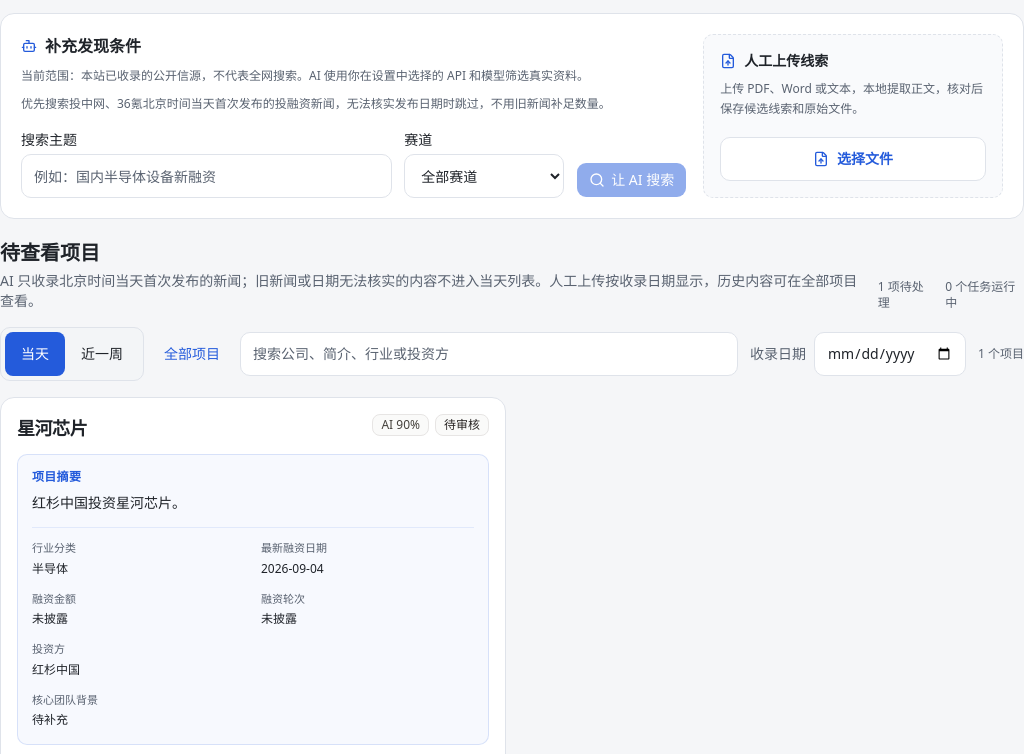
Test case: DiscoveryWorkbench › creates a search and promotes a candidate through explicit human confirmation
Type "国内头部机构 半导体 新投资" into the field labelled "搜索主题" at {"x": 207, "y": 176}, box [21,154,392,198]
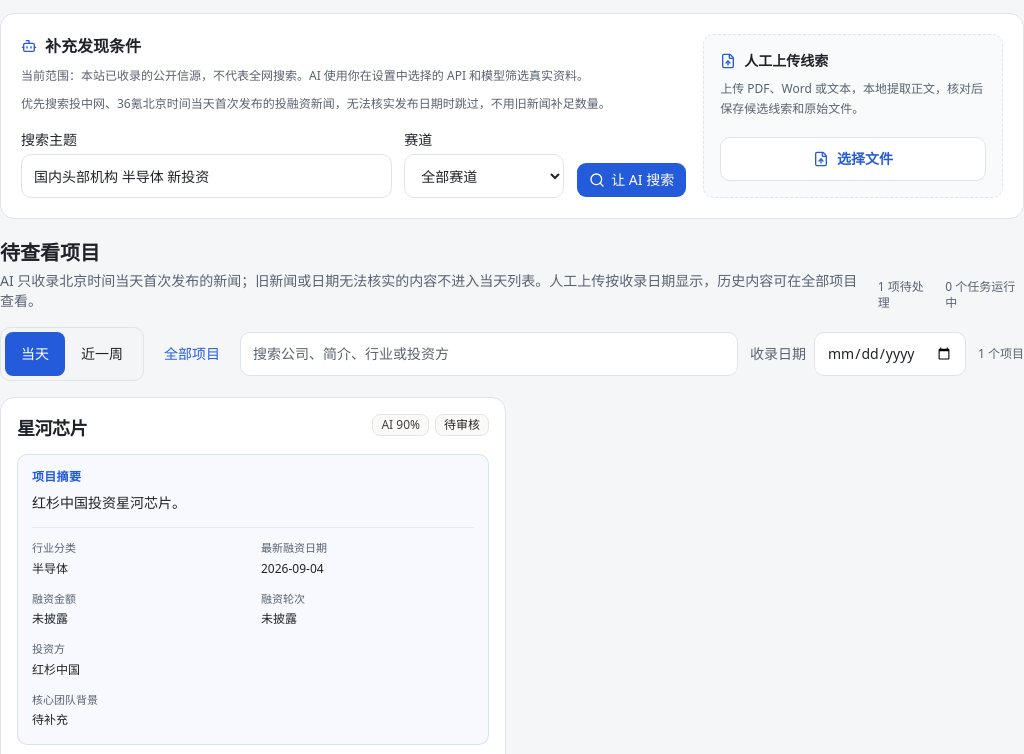
Click the button "让 AI 搜索" at {"x": 632, "y": 180}, box [576,162,687,198]
(page scrolled)
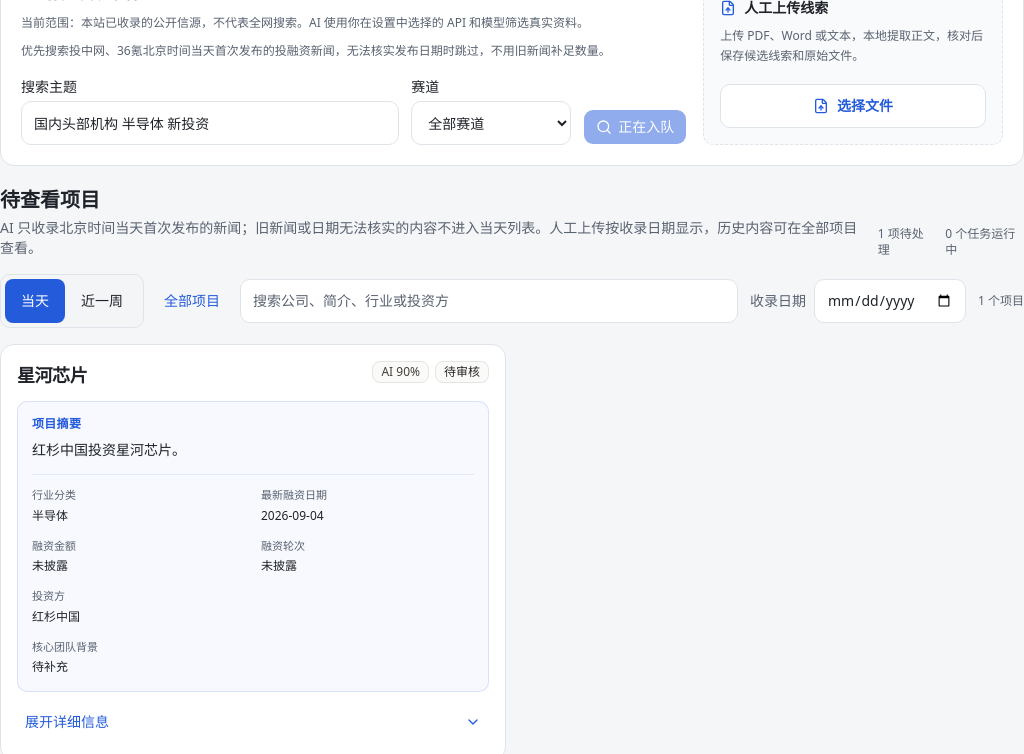
Click the button with aria-label "查看项目详情" at {"x": 67, "y": 722}, box [17,700,489,744]
(page scrolled)
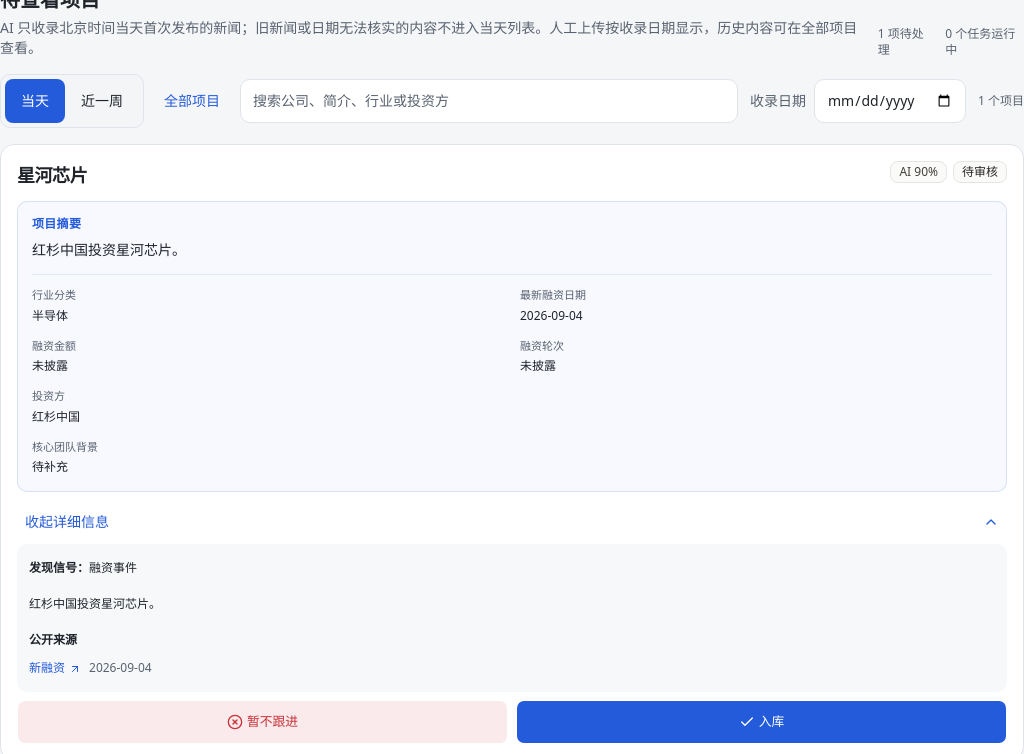
Click the button "入库" at {"x": 762, "y": 722}, box [516,700,1007,744]
(page scrolled)
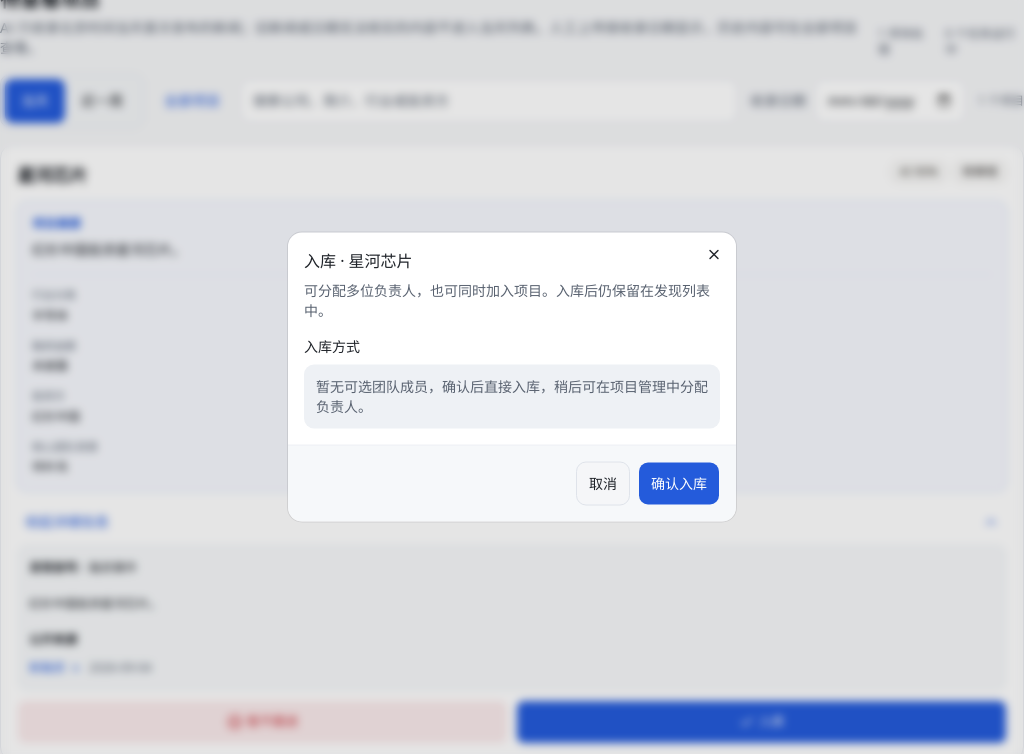
Click the button "确认入库" at {"x": 679, "y": 484}, box [638,462,720,506]
(page scrolled)
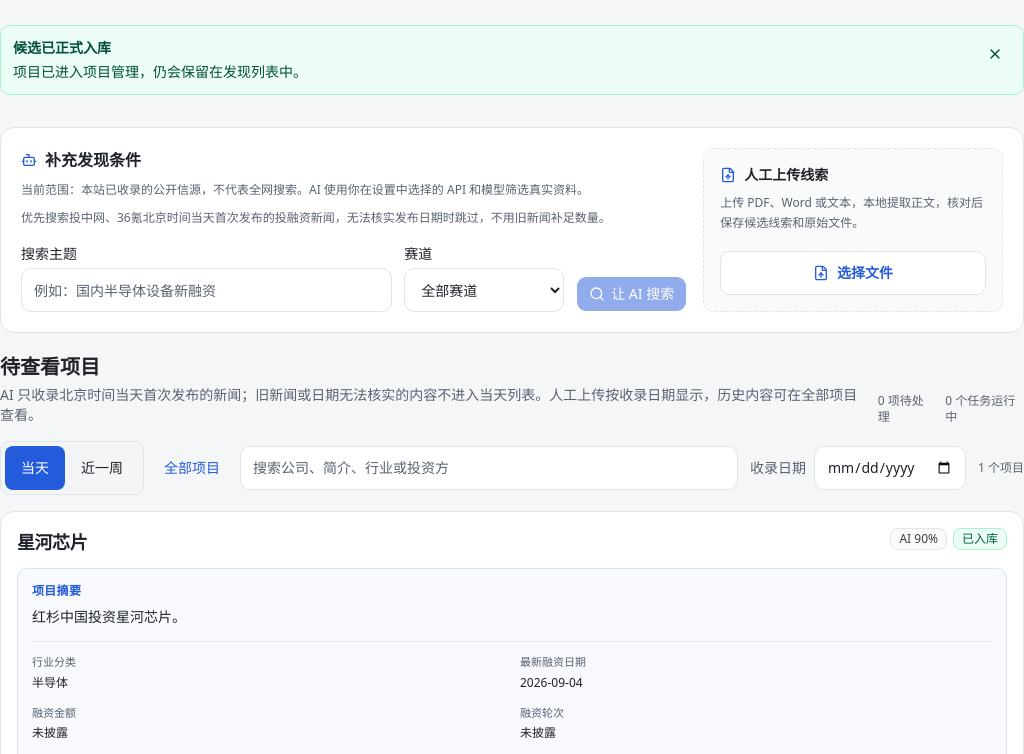
Check: the text "候选已正式入库" is shown, box [13,38,111,57]
